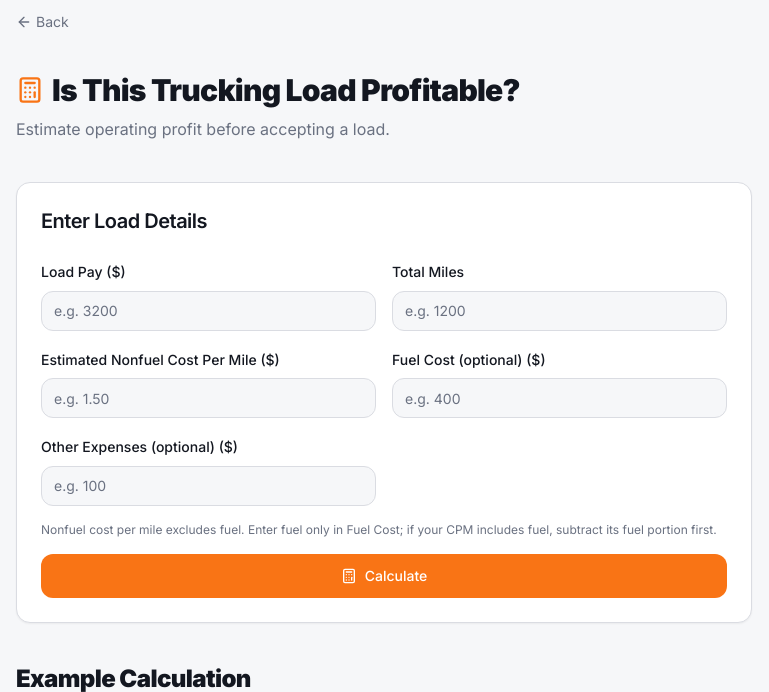
Test: F2 public calculator interaction › preserves the second calculator example and clears stale results after input edits
Type "3200" into the number field with placeholder "e.g. 3200" at (208, 311), box [41,291,376,331]
Type "1200" into the number field with placeholder "e.g. 1200" at (560, 311), box [392,291,727,331]
Type "1.5" into the number field with placeholder "e.g. 1.50" at (208, 398), box [41,378,376,418]
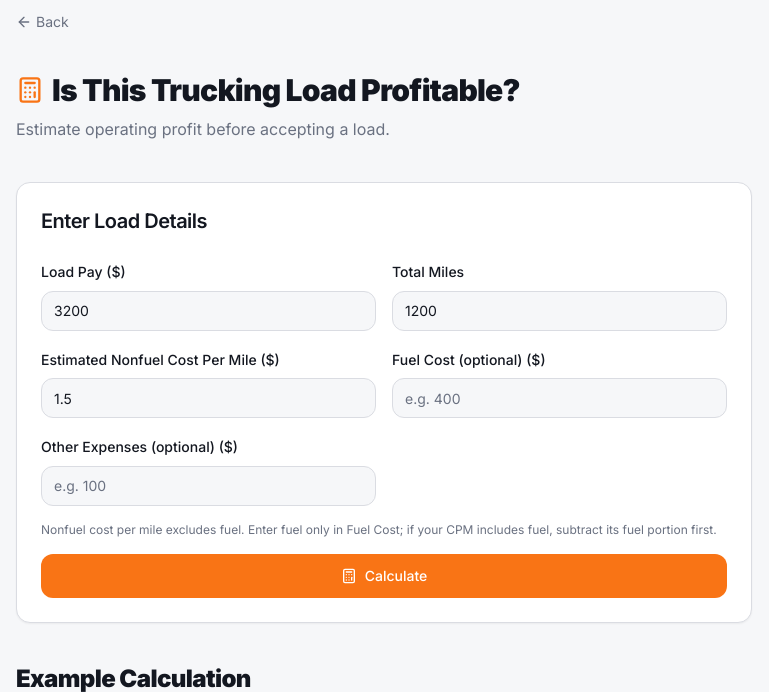
Type "400" into the number field with placeholder "e.g. 400" at (560, 398), box [392,378,727,418]
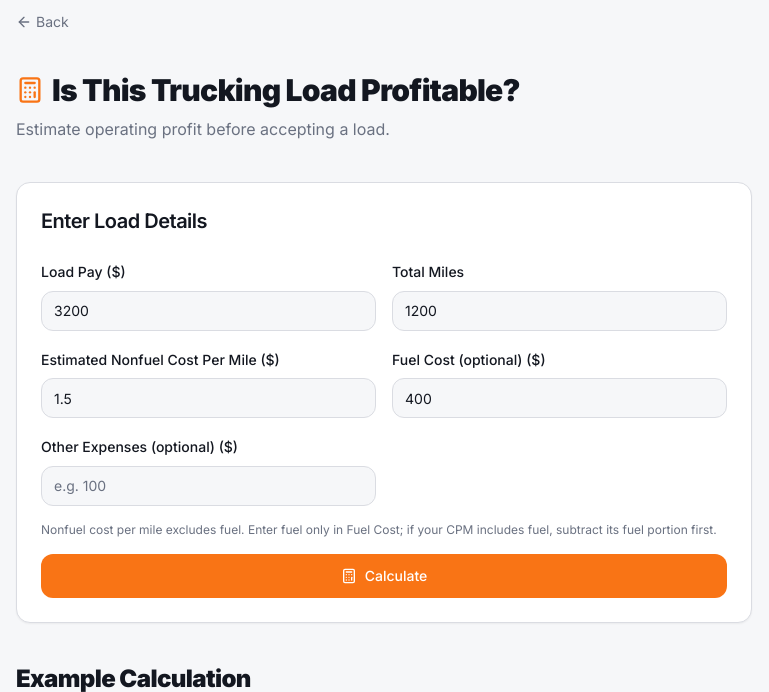
Type "100" into the number field with placeholder "e.g. 100" at (208, 486), box [41,466,376,506]
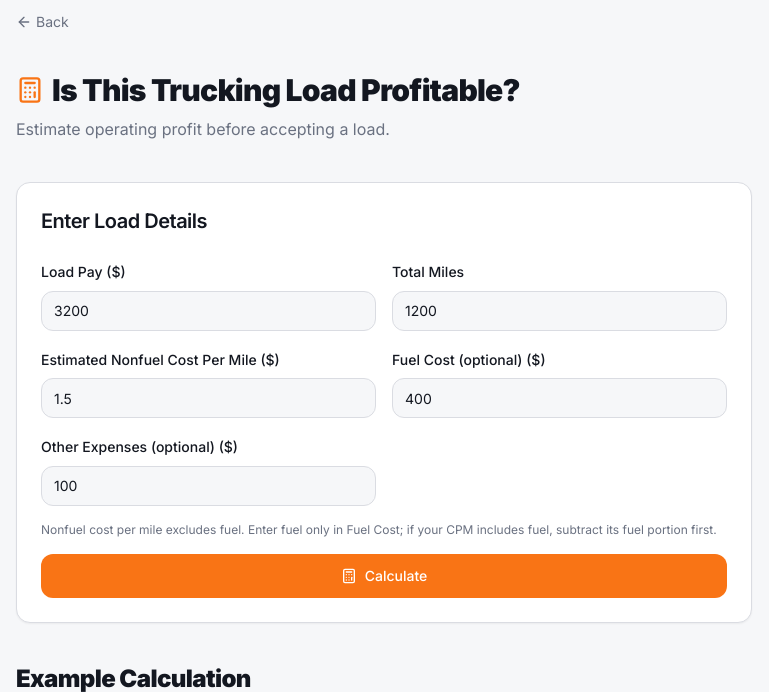
Click the button "Calculate" at (384, 576), box [41,554,727,598]
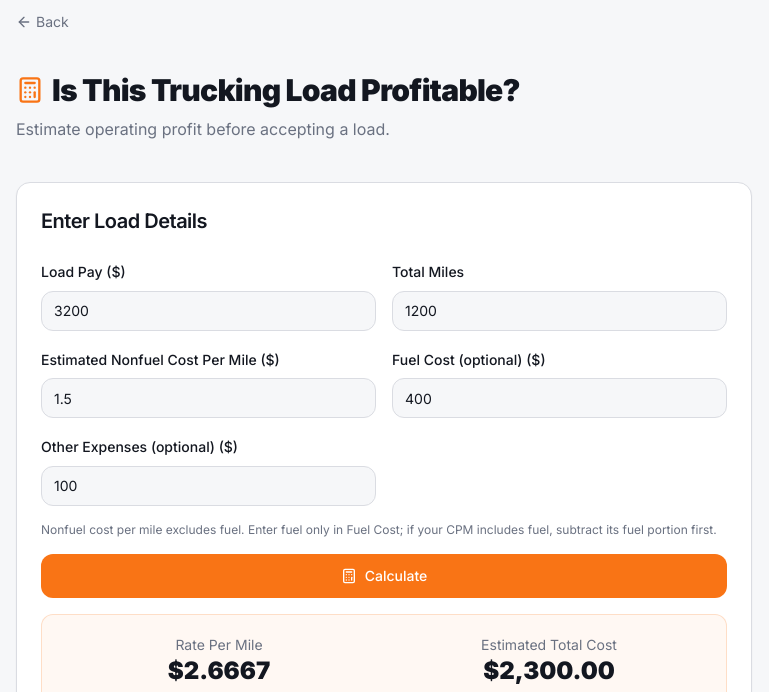
Check: the text "$2,300.00" is shown, box [483,656,615,685]
Replace the text in the number field with placeholder "e.g. 100" below "Other Expenses (optional) ($)" with "-1" at (208, 486), box [41,466,376,506]
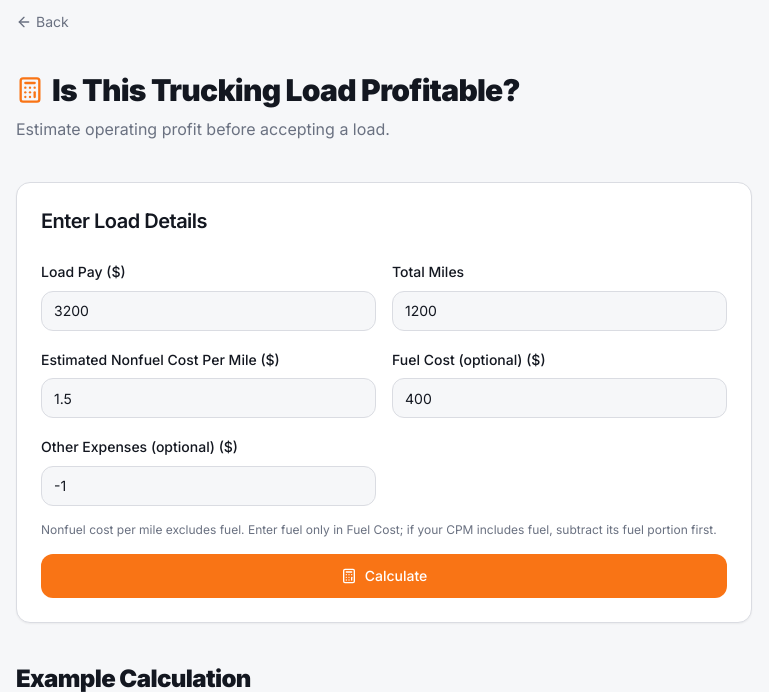
Click the button "Calculate" at (384, 576), box [41,554,727,598]
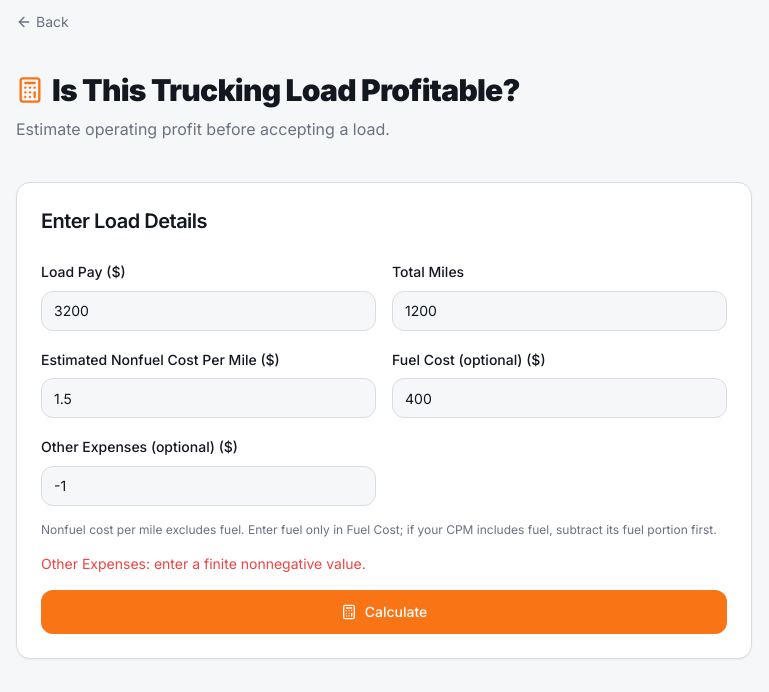
Check: the message "Other Expenses: enter a finite nonnegative value." is shown, box [41,555,366,572]
